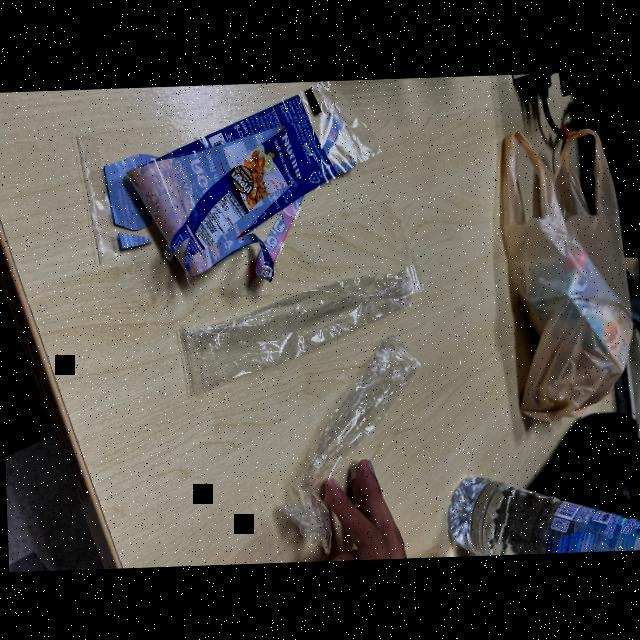scrap_plastic: (67, 78, 396, 294), (181, 253, 432, 408), (266, 345, 444, 531)
